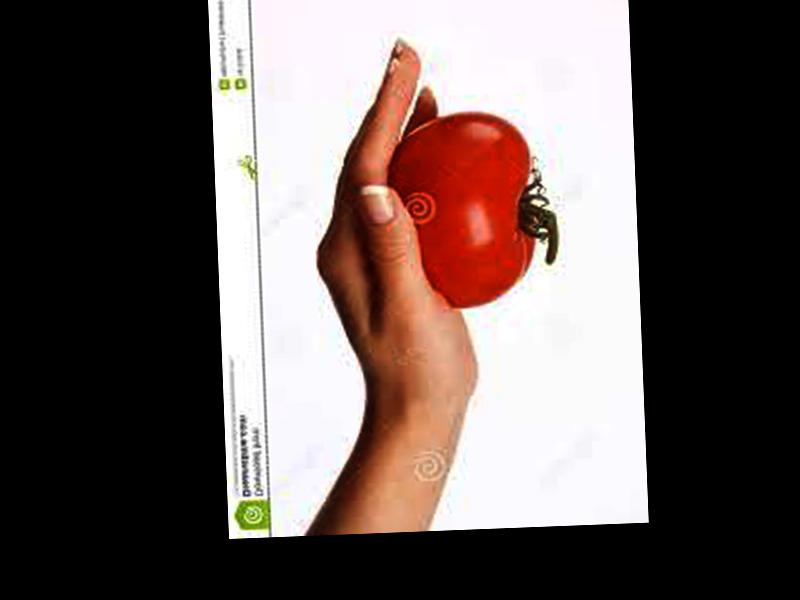Tomato: (386, 110, 537, 310)
